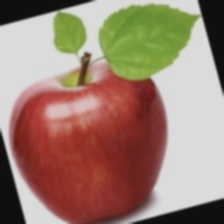apple: (9, 21, 172, 173)
